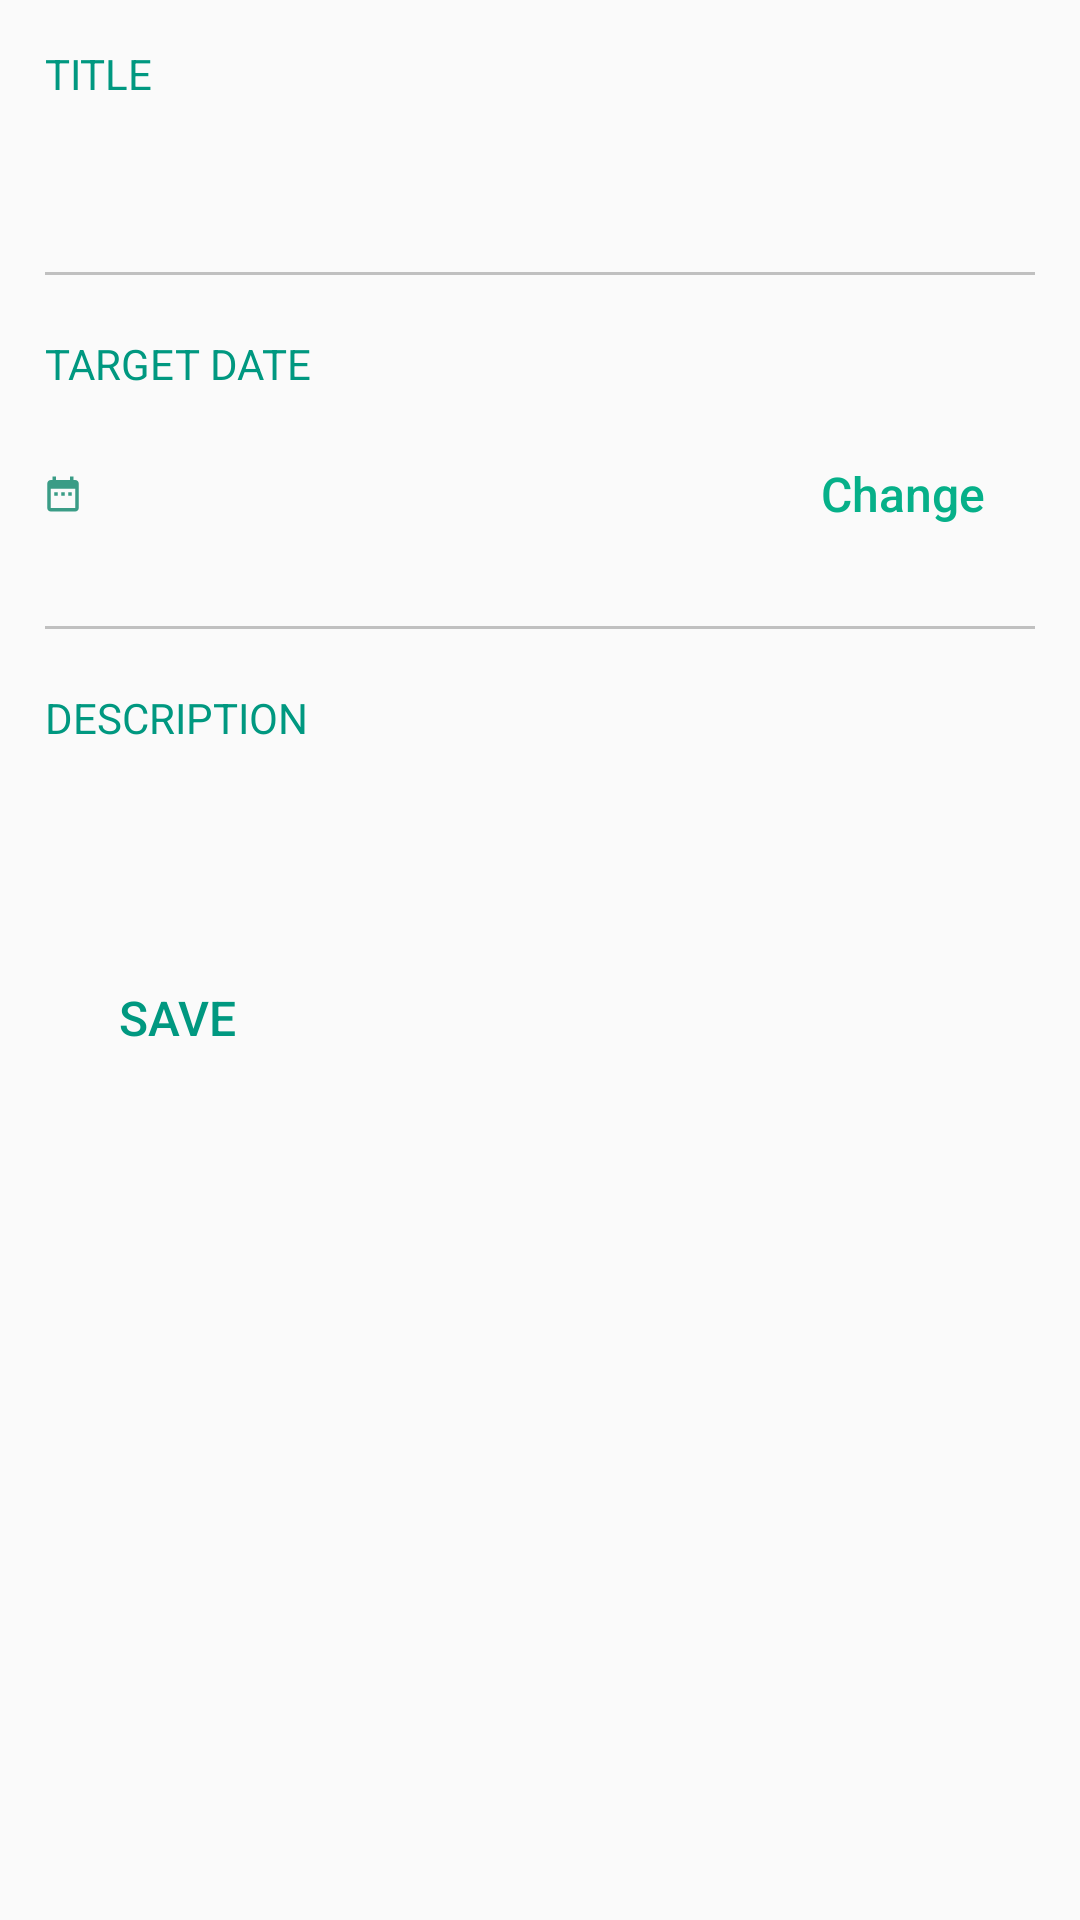

Screen size 1080 x 1920. Icon name, then its box in pixels as (x1, y1, x2, y2):
cal: (47, 476, 79, 512)
